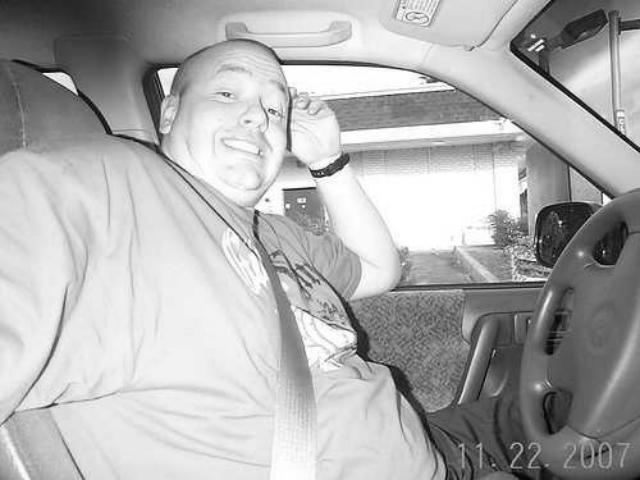SafeDriving: (577, 214, 636, 282), (205, 81, 244, 106)
Seatbelt: (250, 226, 322, 480)
